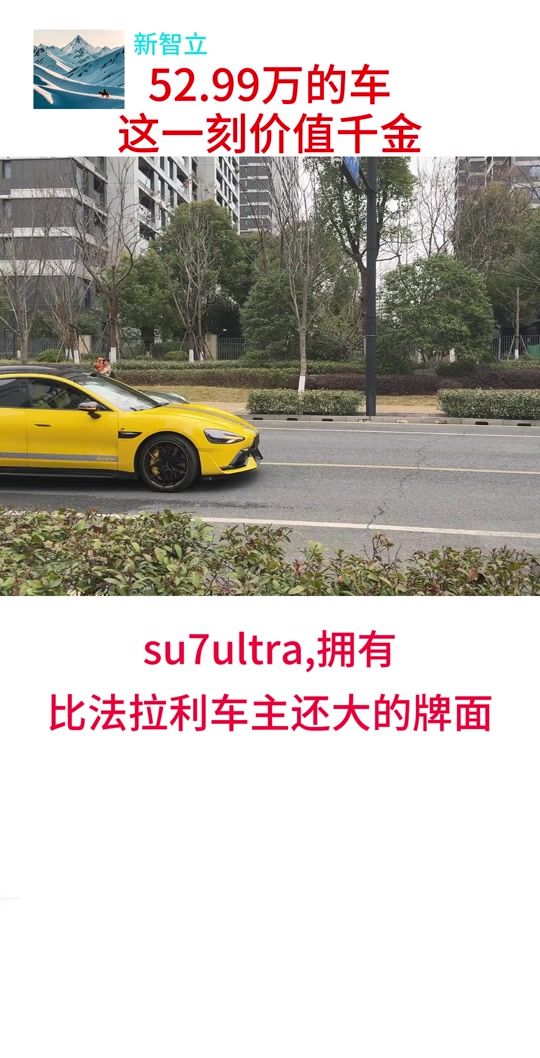su7: (0, 358, 255, 499)
